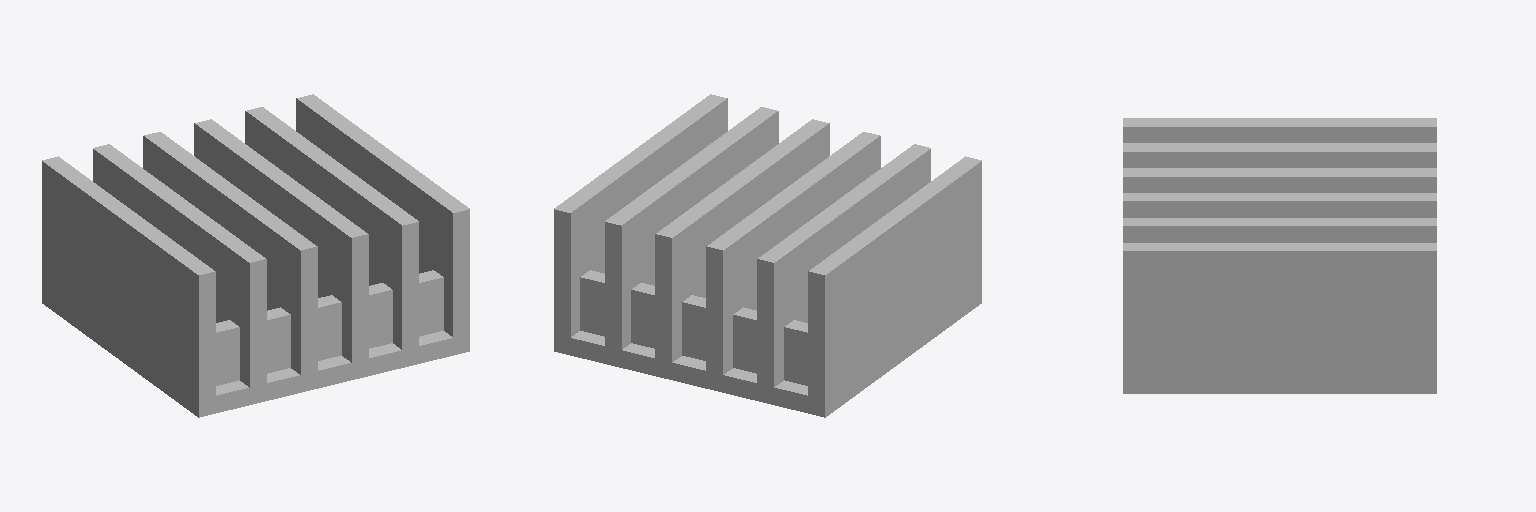
The model's file is heatSink.obj.
3 views of the same model, side by side, from view 1: azimuth 30°, elevation 25°; view 2: azimuth 150°, elevation 25°; view 3: azimuth 270°, elevation 25° (orthographic).
Bounding box in the file's own units: 1 × 0.5 × 1.